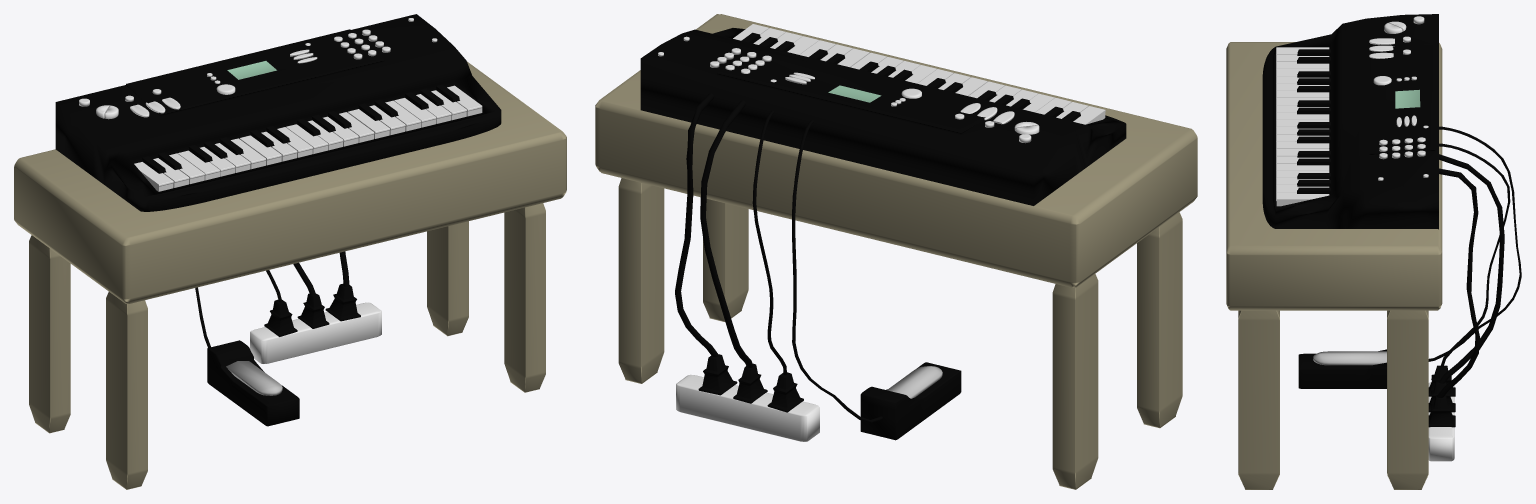
File: ninjadiaries_piano_blend1.fbx
The picture shows the model from 3 angles, left to right: view 1: azimuth 30°, elevation 25°; view 2: azimuth 150°, elevation 25°; view 3: azimuth 270°, elevation 25°; orthographic projection. The views are drawn at different scales.
Parts seen in each view (by area): view 1: Cube.039, Cube.025, Circle.030, Cube.027, Curve, Curve.001, Curve.002; view 2: Cube.039, Cube.025, Circle.030, Cube.027, Curve, Curve.001, Curve.002, Curve.003; view 3: Cube.039, Cube.025, Circle.030, Curve, Curve.001, Curve.002, Cube.027, Curve.003, B5, B4.001, E3, B4 (+2 smaller).
Part boxes in pixels (x1=…): Cube.039: x1=14, y1=61, x2=566, y2=489; Cube.025: x1=55, y1=14, x2=501, y2=211; Circle.030: x1=207, y1=340, x2=299, y2=426; Cube.027: x1=250, y1=302, x2=381, y2=364; Curve: x1=325, y1=251, x2=360, y2=321; Curve.001: x1=293, y1=262, x2=329, y2=328; Curve.002: x1=264, y1=270, x2=297, y2=336; Cube.039: x1=595, y1=14, x2=1197, y2=489; Cube.025: x1=640, y1=28, x2=1126, y2=205; Circle.030: x1=860, y1=362, x2=961, y2=440; Cube.027: x1=676, y1=374, x2=819, y2=441; Curve: x1=675, y1=93, x2=737, y2=395; Curve.001: x1=700, y1=100, x2=767, y2=403; Curve.002: x1=752, y1=110, x2=803, y2=412; Curve.003: x1=792, y1=120, x2=882, y2=423; Cube.039: x1=1226, y1=42, x2=1442, y2=489; Cube.025: x1=1262, y1=14, x2=1438, y2=229; Circle.030: x1=1298, y1=349, x2=1386, y2=388; Curve: x1=1428, y1=168, x2=1480, y2=427; Curve.001: x1=1428, y1=154, x2=1504, y2=412; Curve.002: x1=1428, y1=143, x2=1510, y2=396; Cube.027: x1=1428, y1=382, x2=1454, y2=461; Curve.003: x1=1428, y1=126, x2=1521, y2=361; B5: x1=1276, y1=192, x2=1329, y2=206; B4.001: x1=1276, y1=90, x2=1329, y2=97; E3: x1=1276, y1=112, x2=1329, y2=119; B4: x1=1276, y1=141, x2=1329, y2=148.
Bounding box in the file's own units: 1800 × 1211 × 1076.
